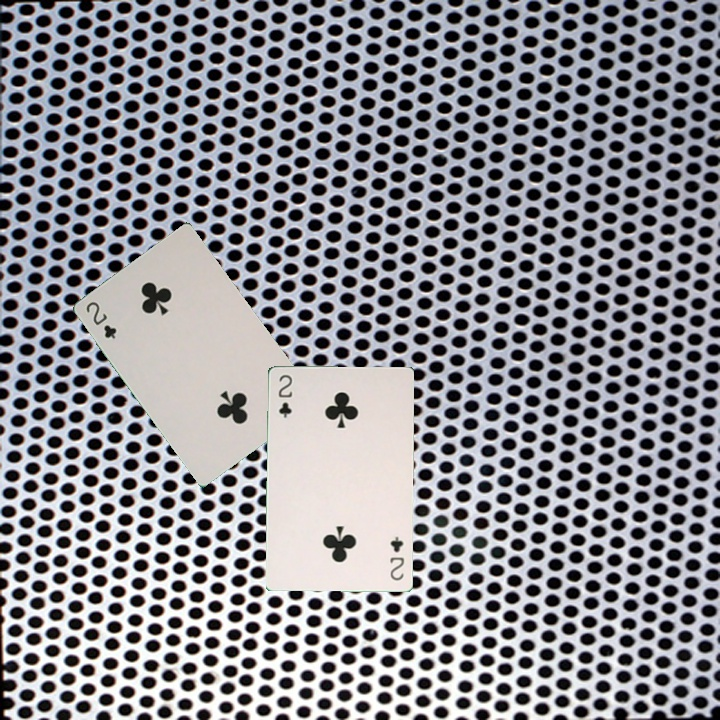2c: (82, 297, 119, 341), (386, 532, 407, 583), (275, 371, 294, 420)
